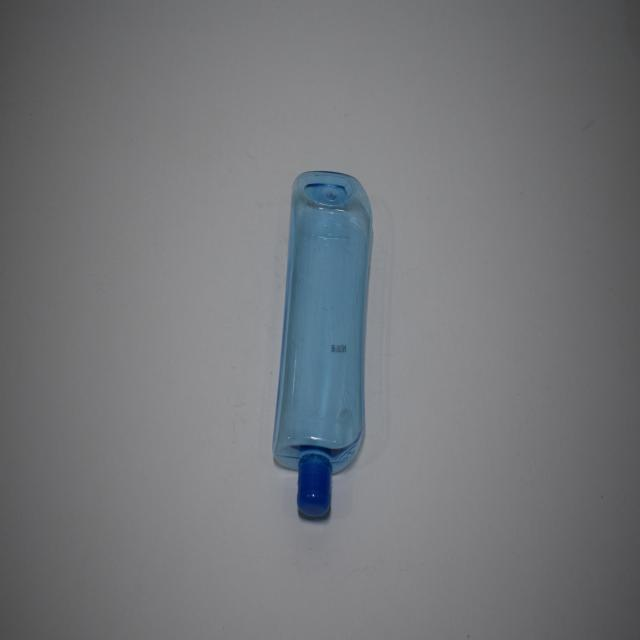empty: (273, 171, 372, 517)
